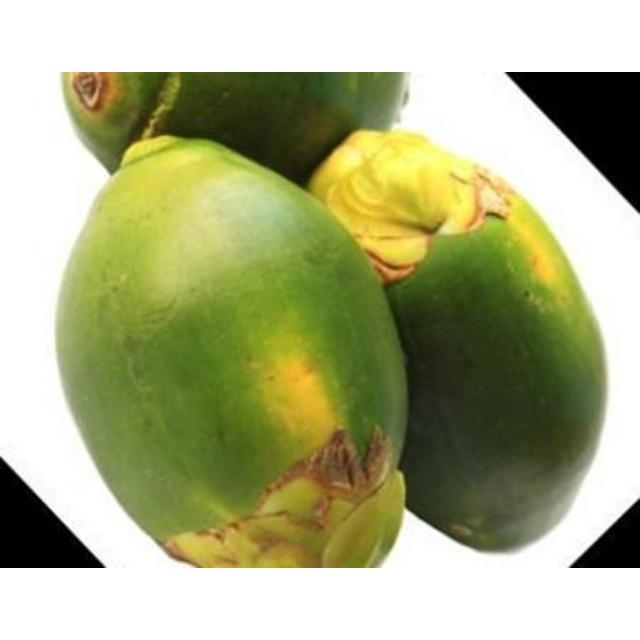good: (51, 135, 410, 567), (307, 130, 610, 554)
